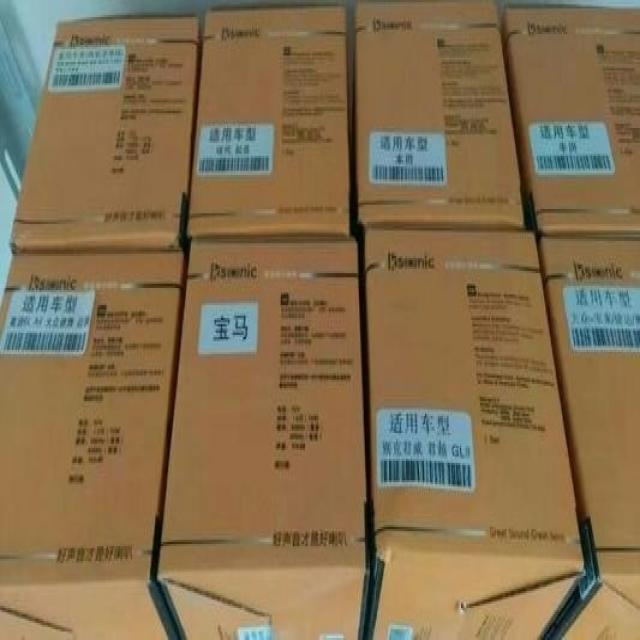Carton: (369, 228, 581, 567), (157, 237, 364, 565), (0, 252, 183, 591), (8, 19, 195, 241), (354, 0, 521, 215), (192, 0, 345, 230), (544, 235, 639, 578), (504, 4, 639, 228)
